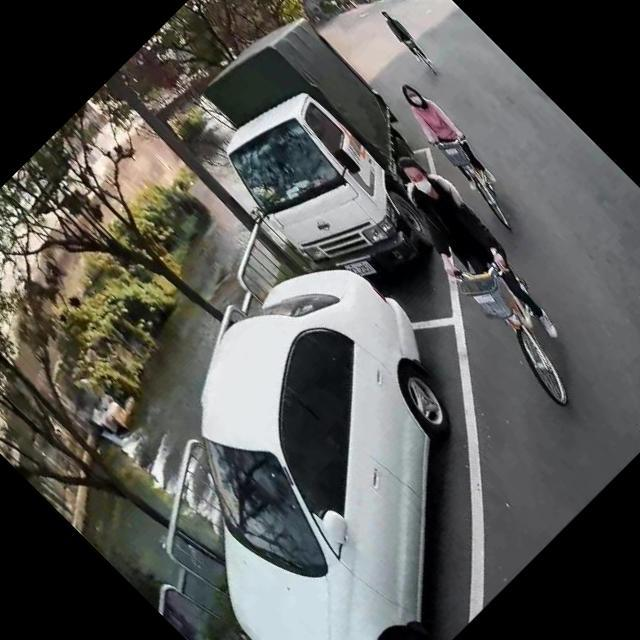person: (360, 140, 584, 364), (379, 71, 506, 198), (371, 3, 439, 71)
